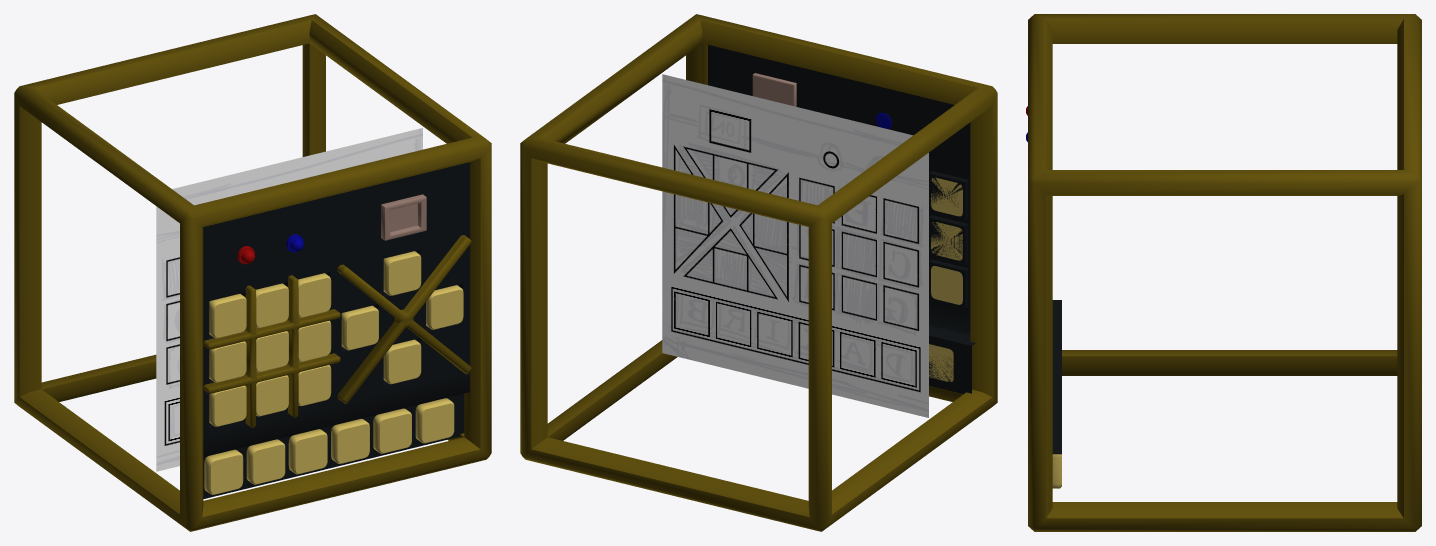
Rendered from Pigpen Puzzle_P2_Whole Box.FBX.
3 renders of one model, left to right at view 1: azimuth 30°, elevation 25°; view 2: azimuth 150°, elevation 25°; view 3: azimuth 270°, elevation 25°, orthographic. The views are drawn at different scales.
Visible parts, largest first — view 1: Box067, Letter Slot Plane, Plane004, Tic Tac Toe Indicator, X Grid Indicator, ON001, Scrabble Piece001, Scrabble Piece002, Scrabble Piece003, Scrabble Piece006, Scrabble Piece004, Scrabble Piece005 (+13 smaller); view 2: Box067, Plane004, Letter Slot Plane, ON001, Scrabble Piece008, Scrabble Piece010, Scrabble Piece, Scrabble Piece001; view 3: Box067, Letter Slot Plane.
Part boxes in pixels (box(x1,y1,x2,y2)): Box067: box(14, 14, 491, 531); Letter Slot Plane: box(203, 162, 469, 499); Plane004: box(156, 128, 422, 471); Tic Tac Toe Indicator: box(203, 275, 340, 427); X Grid Indicator: box(337, 235, 471, 403); ON001: box(381, 194, 426, 240); Scrabble Piece001: box(204, 449, 243, 494); Scrabble Piece002: box(246, 439, 285, 484); Scrabble Piece003: box(288, 429, 327, 474); Scrabble Piece006: box(415, 398, 454, 443); Scrabble Piece004: box(331, 418, 369, 463); Scrabble Piece005: box(373, 408, 411, 453); Box067: box(520, 14, 997, 531); Plane004: box(662, 74, 928, 417); Letter Slot Plane: box(708, 45, 975, 393); ON001: box(752, 73, 796, 106); Scrabble Piece008: box(931, 266, 962, 304); Scrabble Piece010: box(931, 177, 962, 216); Scrabble Piece: box(931, 222, 962, 260); Scrabble Piece001: box(929, 344, 953, 381); Box067: box(1028, 14, 1421, 531); Letter Slot Plane: box(1052, 300, 1061, 454).
Bounding box in the file's own units: 126 × 126 × 127.
